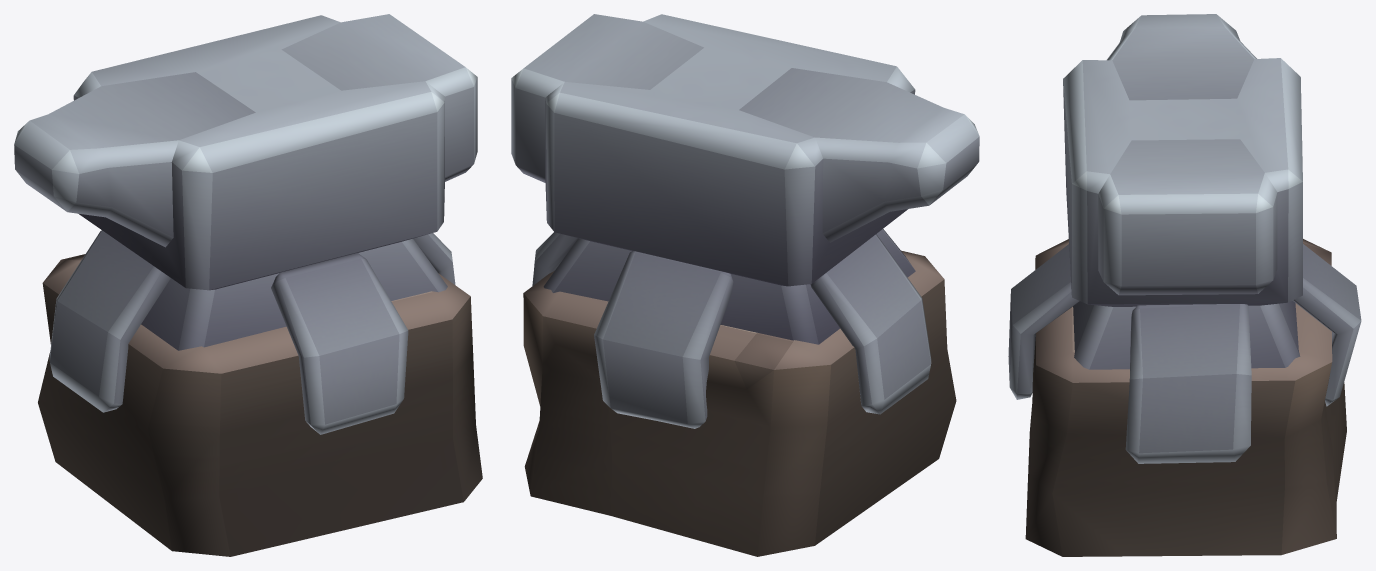
Rendered from elf_anvil_big.fbx.
The picture shows the model from 3 angles, left to right: view 1: azimuth 30°, elevation 25°; view 2: azimuth 150°, elevation 25°; view 3: azimuth 270°, elevation 25°; orthographic projection. The views are drawn at different scales.
Parts seen in each view (by area): view 1: elf_anvil_big; view 2: elf_anvil_big; view 3: elf_anvil_big.
Part boxes in pixels (box(x1,y1,x2,y2)): elf_anvil_big: box(14, 14, 482, 556); elf_anvil_big: box(511, 14, 979, 556); elf_anvil_big: box(1008, 14, 1361, 556).
Size of the model in its own units: 249 by 223 by 193.
